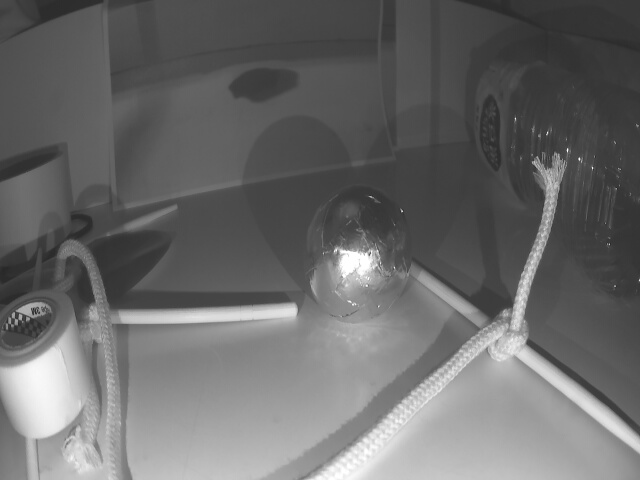Live: (308, 186, 414, 321)
